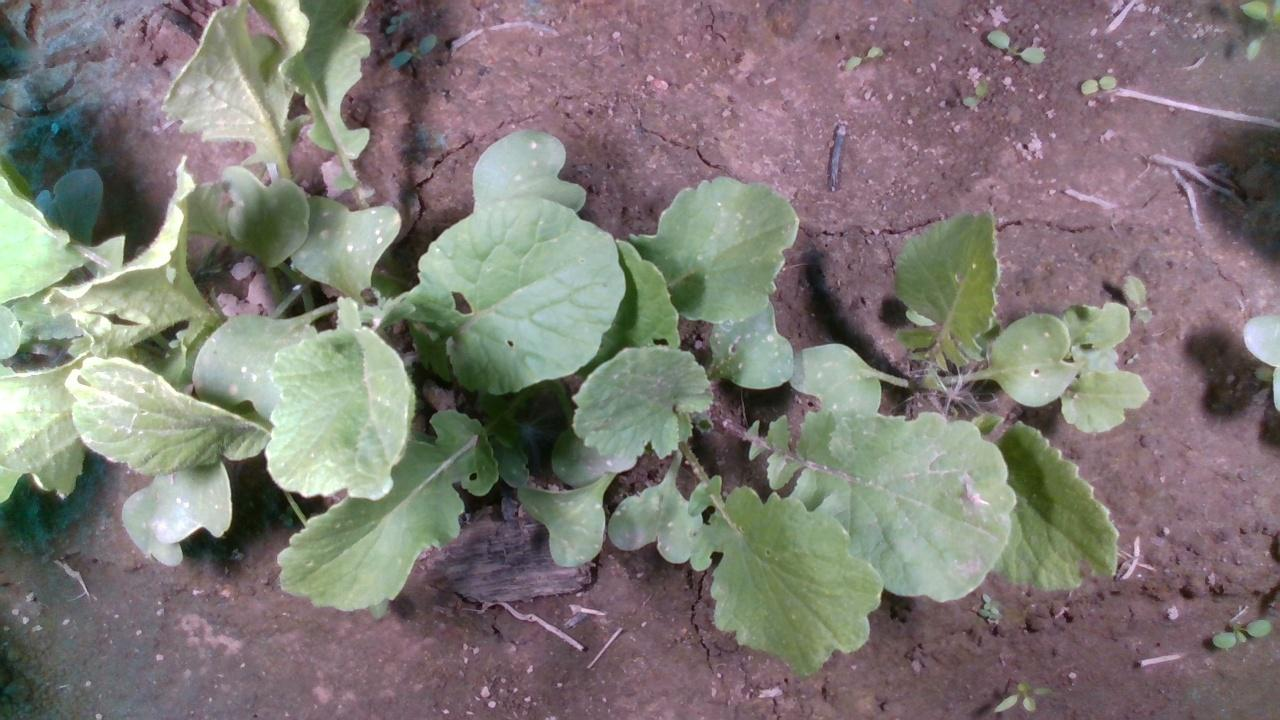weed: (984, 26, 1046, 64), (991, 681, 1054, 714), (1208, 616, 1272, 648), (841, 44, 884, 71), (1078, 71, 1118, 95), (961, 75, 988, 108)
